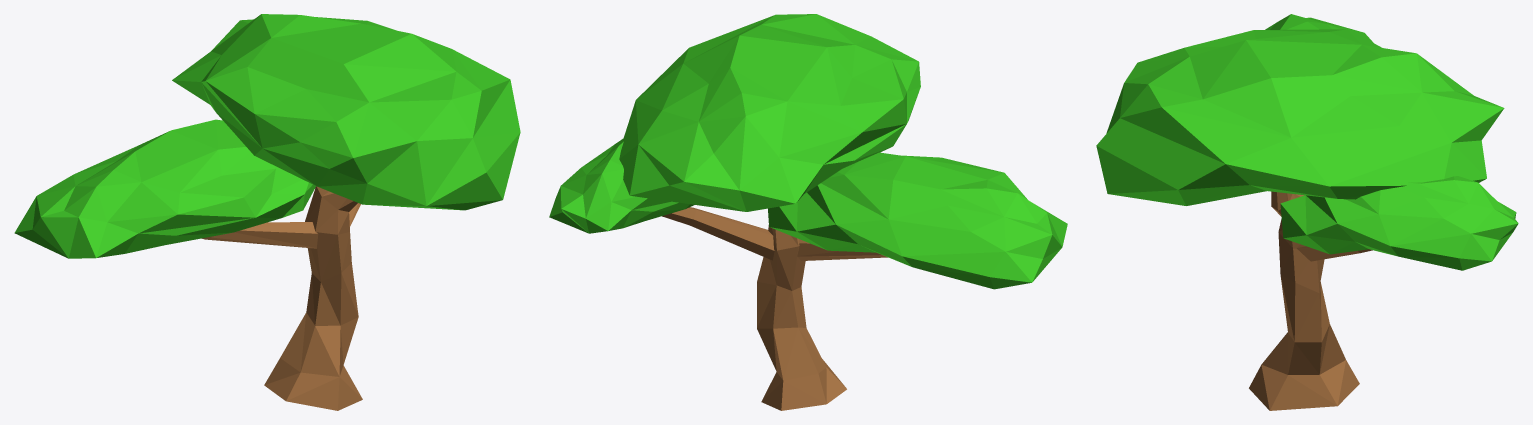
Rendered from tree_wide2.fbx.
3 renders of one model, left to right at view 1: azimuth 30°, elevation 25°; view 2: azimuth 150°, elevation 25°; view 3: azimuth 270°, elevation 25°, orthographic. The views are drawn at different scales.
Visible parts, largest first — view 1: tree_wide2; view 2: tree_wide2; view 3: tree_wide2.
Boxes of the visible parts, <box> form: tree_wide2: <box>14,14,520,410</box>; tree_wide2: <box>549,14,1067,410</box>; tree_wide2: <box>1096,14,1518,410</box>.
Bounding box in the file's own units: 3.78 × 2.79 × 2.99.
